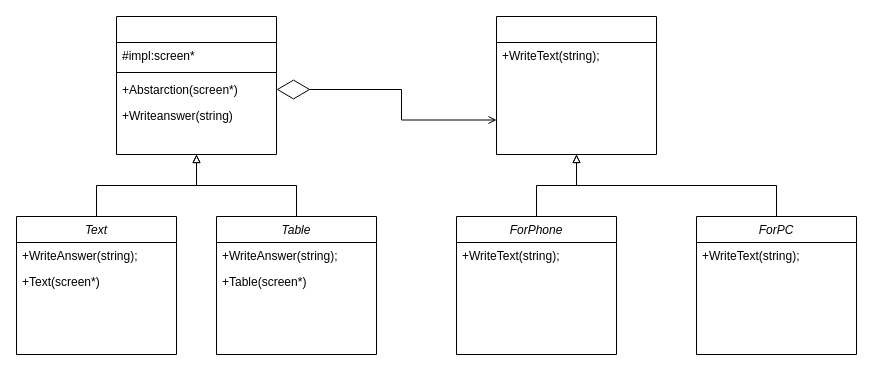
Some shapes in this 873 by 371 pixel diagram are drawn without their labels. Each missing label, with the box of its shape:
Abstraction: (116, 16, 276, 154)
Screen: (496, 16, 656, 154)
